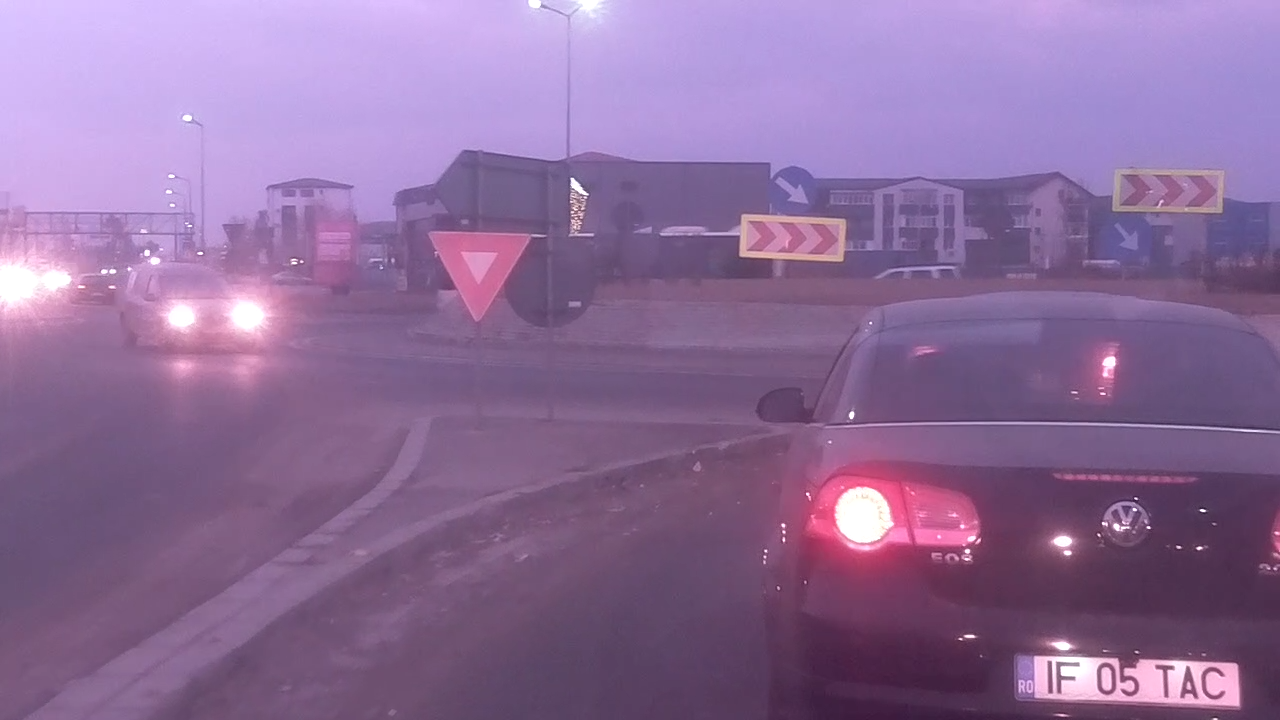license-plate: (1007, 645, 1250, 712)
